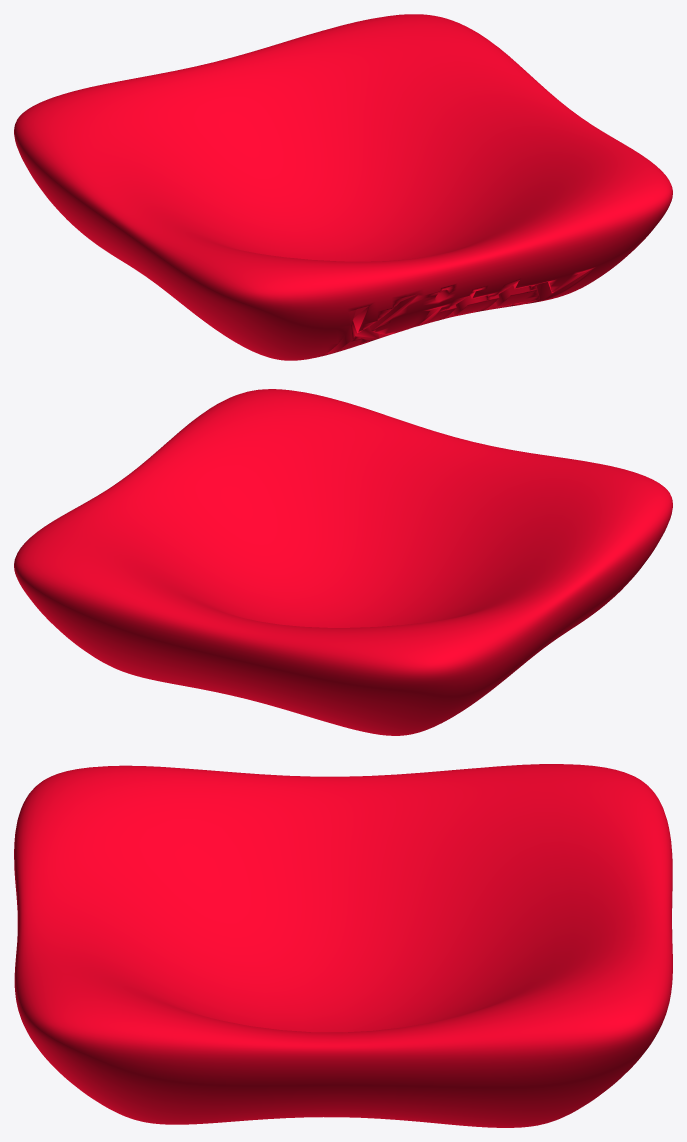
The model's file is catbowl.fbx.
The picture shows the model from 3 angles, top to bottom: view 1: azimuth 30°, elevation 25°; view 2: azimuth 150°, elevation 25°; view 3: azimuth 270°, elevation 25°; orthographic projection. The views are drawn at different scales.
Parts seen in each view (by area): view 1: cat bowl; view 2: cat bowl; view 3: cat bowl.
Part boxes in pixels (x1,y1,x2,y2): cat bowl: (14,14,672,360); cat bowl: (14,389,672,735); cat bowl: (14,764,672,1127).
Bounding box in the file's own units: 123 × 123 × 32.97.
